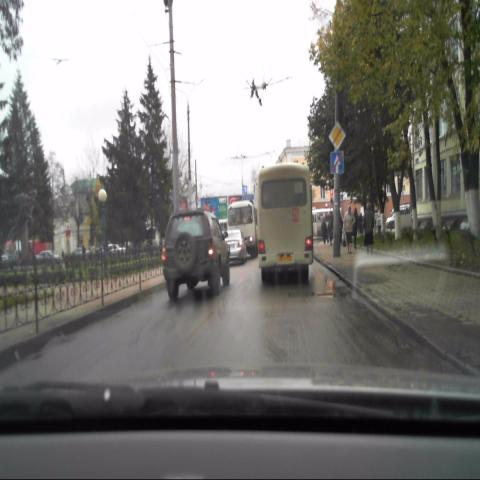5_6: (329, 150, 345, 176)
